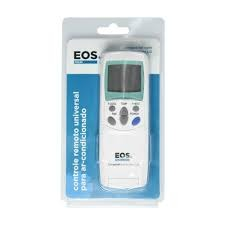remote control: (104, 53, 147, 187)
